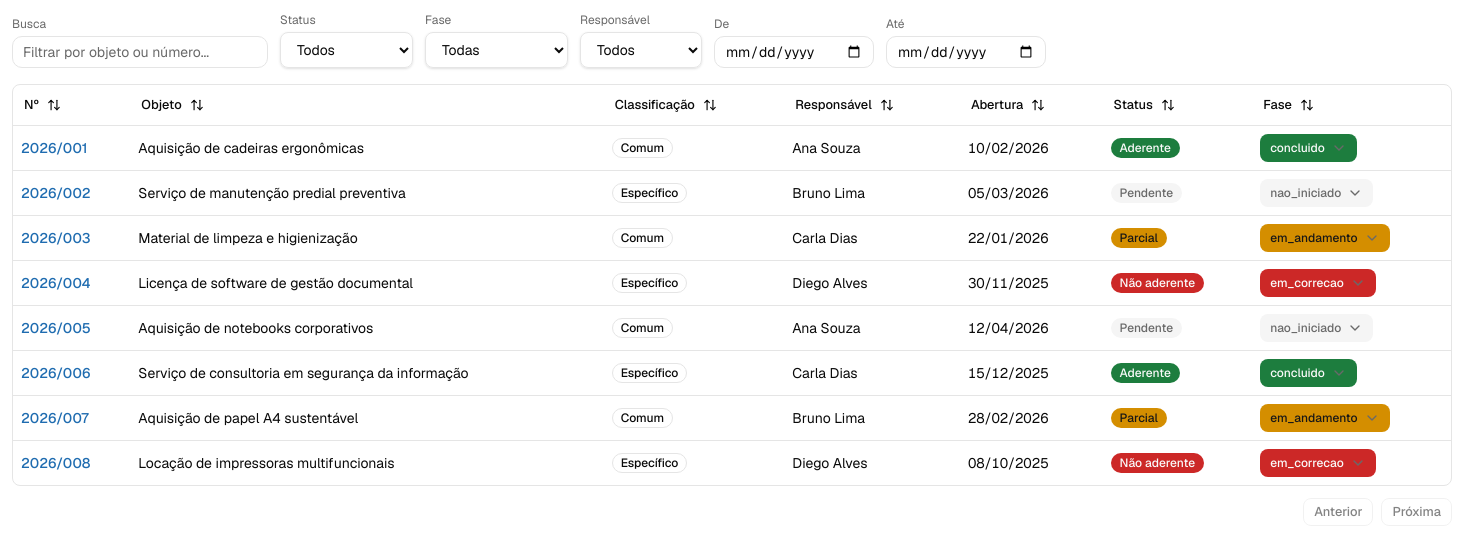
Scenario: ProcessosTable › mostra estado vazio quando nada bate no filtro
The width and height of the screenshot is (1464, 543).
Type "zzzznada" into the field with placeholder "Filtrar por objeto ou número..." at [140, 52], box [12,36,268,68]
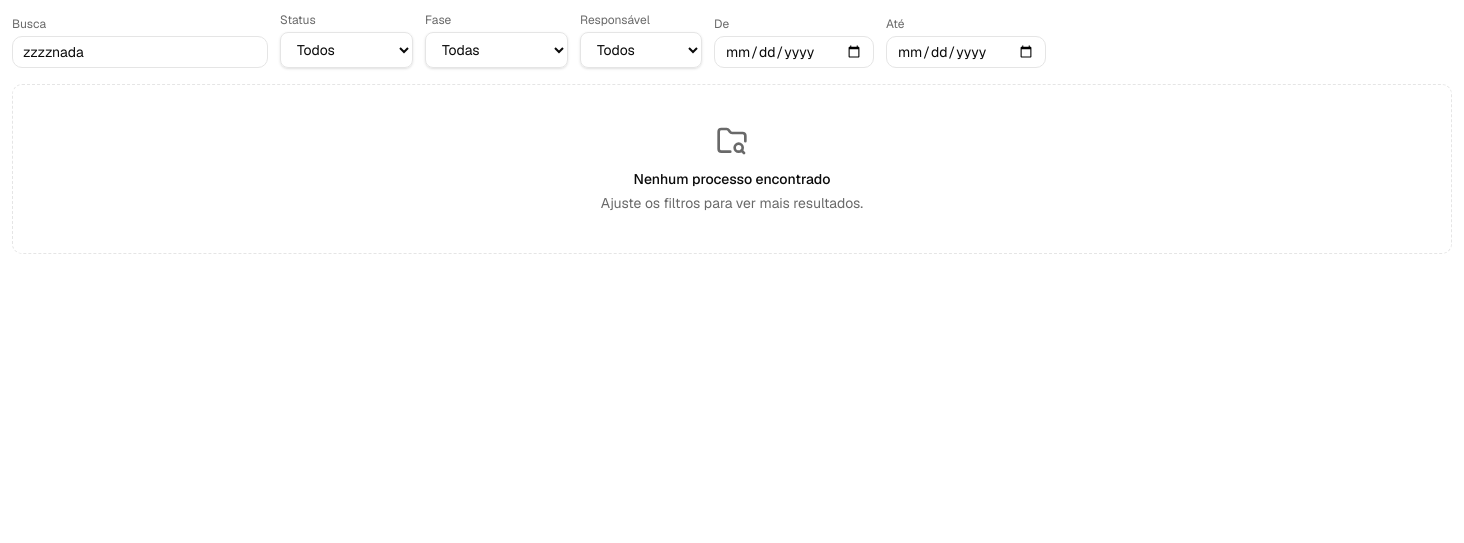
Expected: the heading "Nenhum processo encontrado" is shown, [634,170,830,188]
